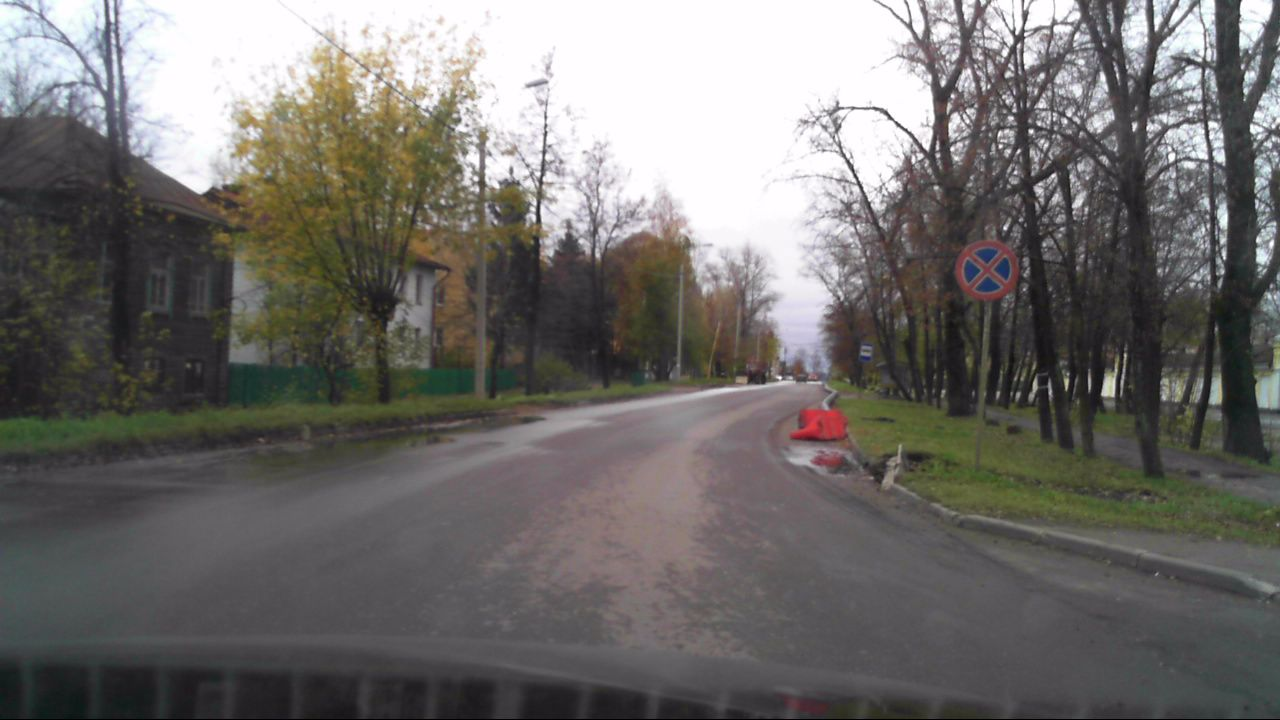No Parking: (959, 241, 1014, 299)
